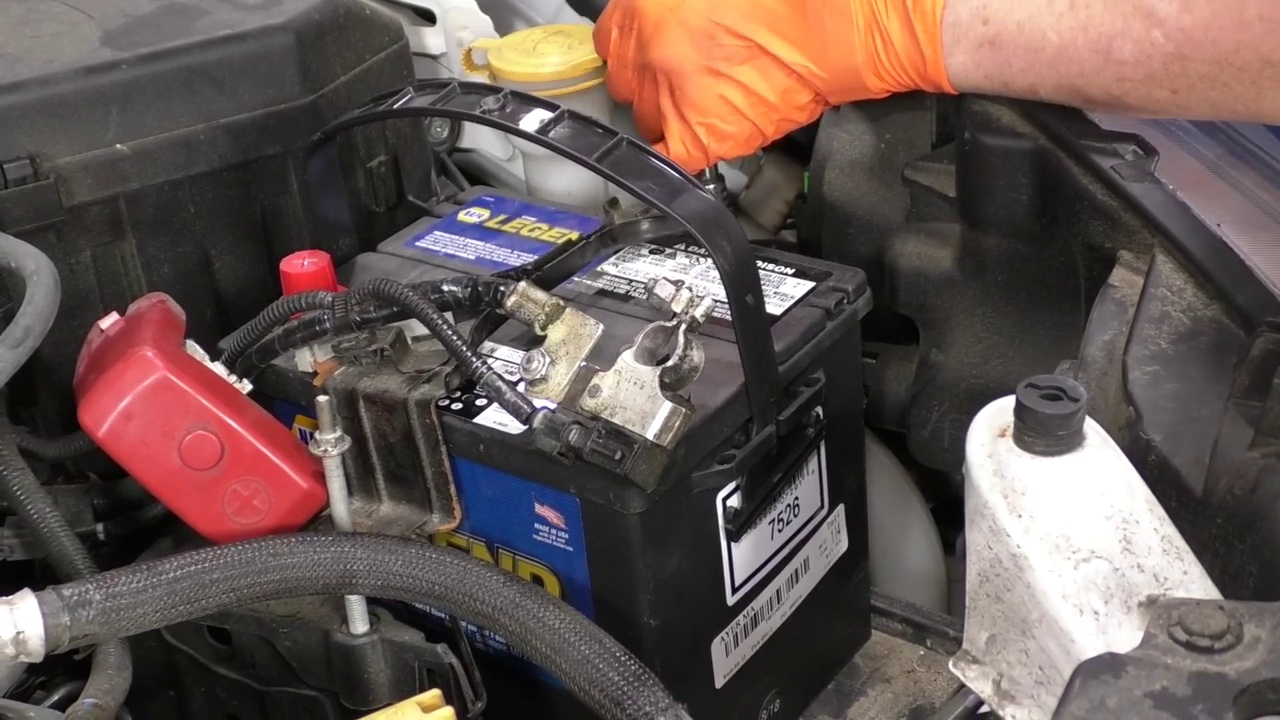battery: (227, 179, 861, 477)
